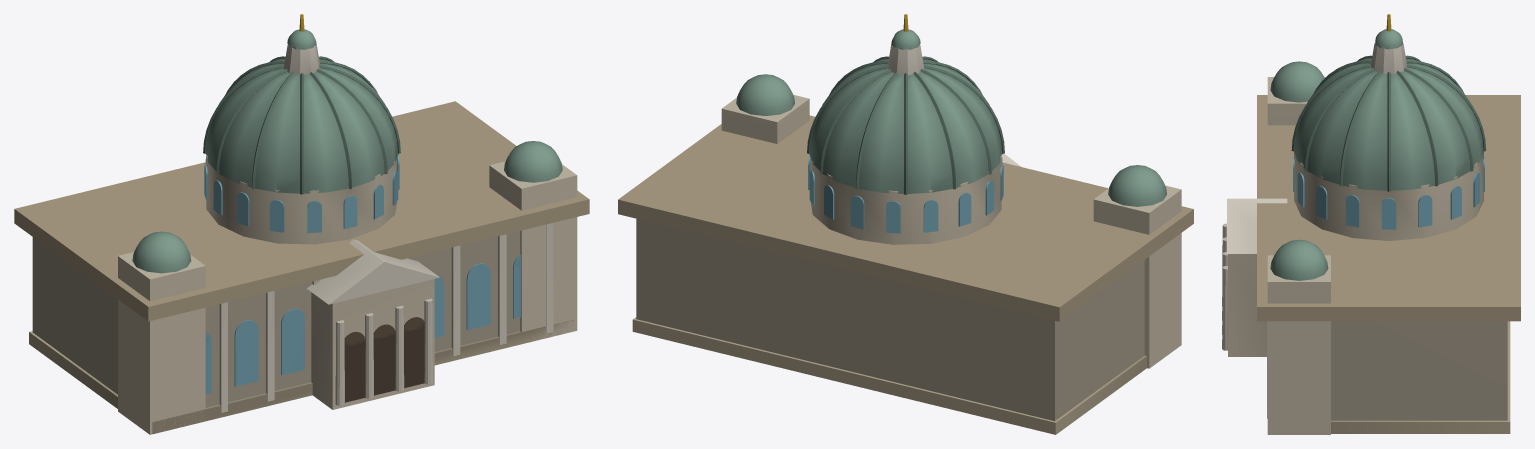
The model's file is lm-exhibition.glb.
3 views of the same model, side by side, from view 1: azimuth 30°, elevation 25°; view 2: azimuth 150°, elevation 25°; view 3: azimuth 270°, elevation 25° (orthographic).
Size of the model in its own units: 19 by 13.3 by 11.33.
